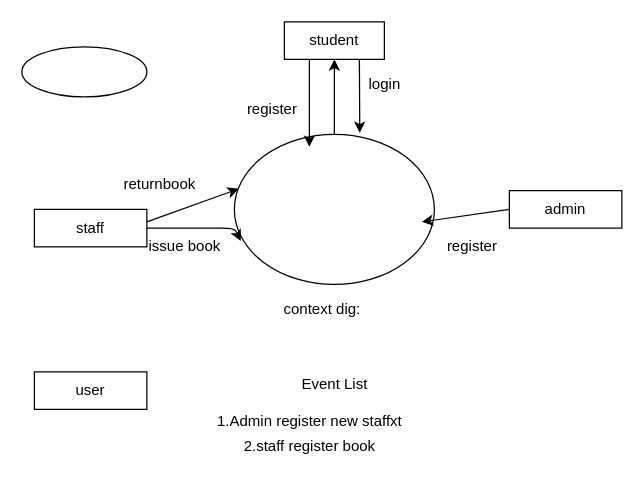
Some shapes in this 644 by 481 pixel diagram are drawn without their labels. Here are the shapes that lost their labels. From the top down, the box of each, then its label:
(21, 46, 147, 97): process
(233, 133, 434, 284): library managemenr system,etc
